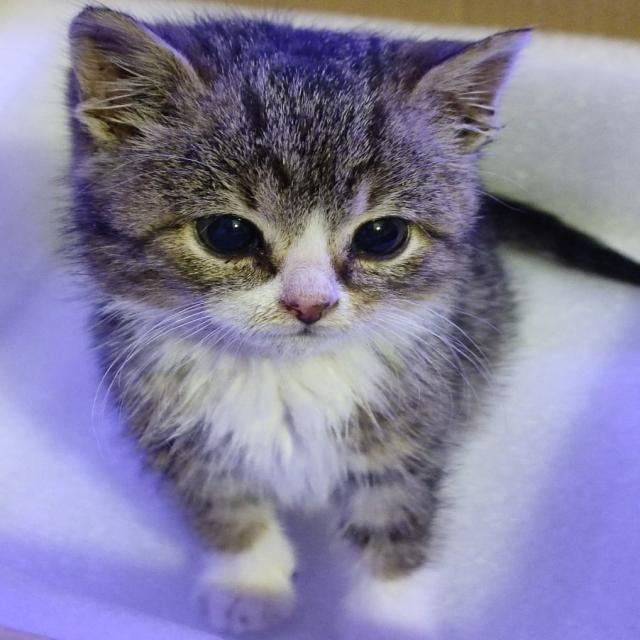da khoe manh: (77, 44, 484, 552)
